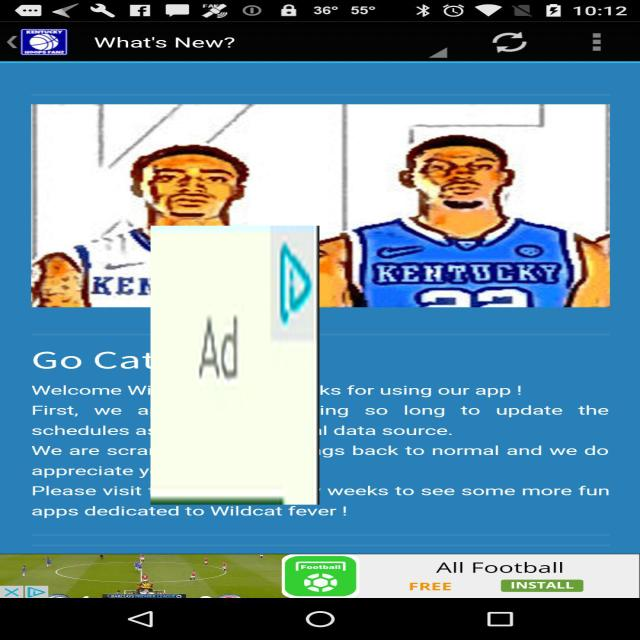sneaking: (150, 226, 320, 504)
